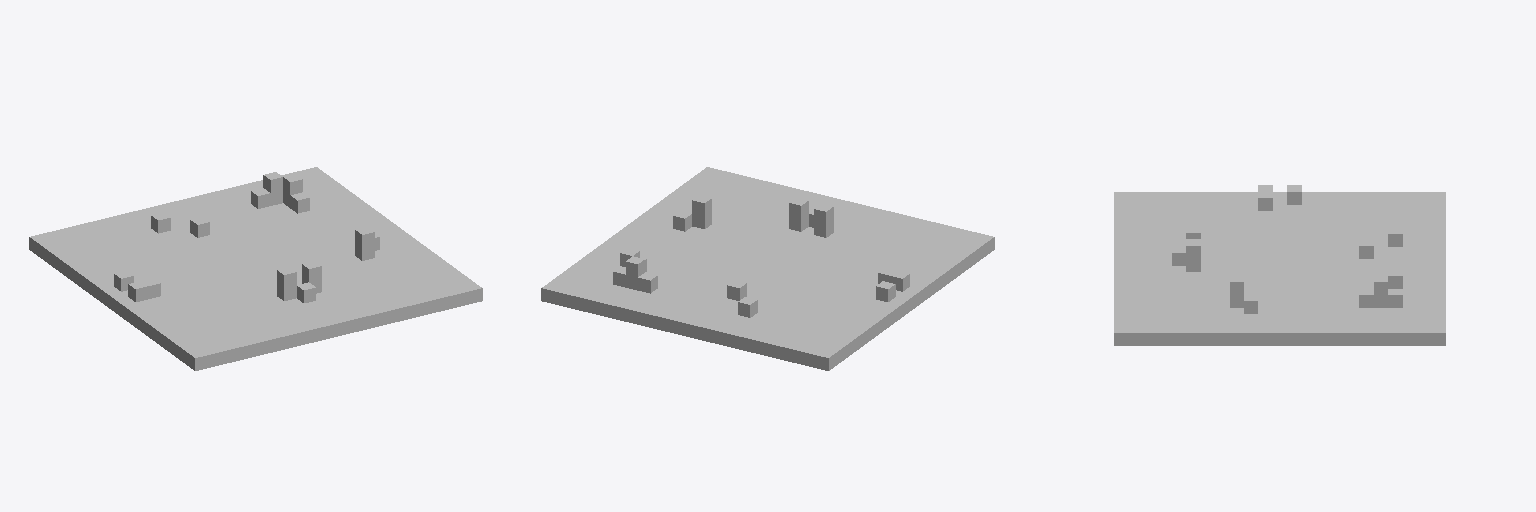
Rendered from Cave Tile 3.obj.
The picture shows the model from 3 angles: view 1: azimuth 30°, elevation 25°; view 2: azimuth 150°, elevation 25°; view 3: azimuth 270°, elevation 25°; orthographic projection.
Parts seen in each view (by area): view 1: object 1; view 2: object 1; view 3: object 1.
Part boxes in pixels (x1,y1,x2,y2): object 1: (29, 167, 482, 370); object 1: (541, 167, 994, 370); object 1: (1114, 185, 1445, 345).
Size of the model in its own units: 2.3 by 0.3 by 2.3.